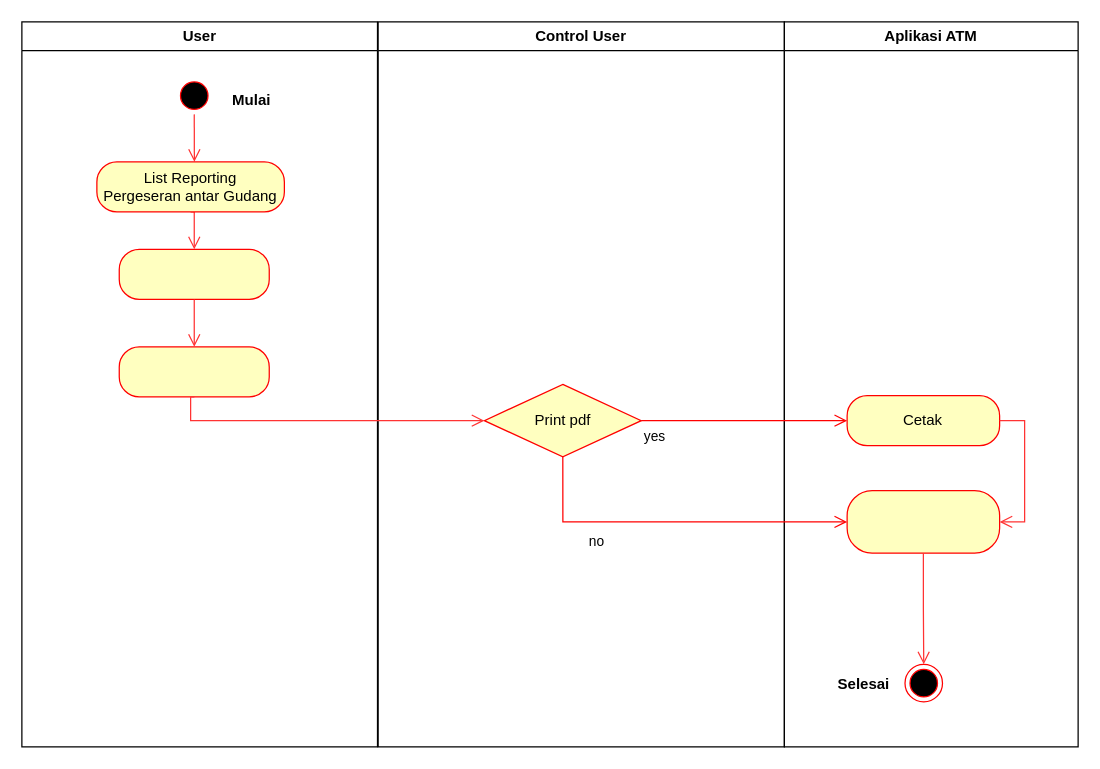
This 1100x769 diagram has some shape labels left out. The shapes that lost their labels are listed below. From the top down, each one's centre as x and y in pixels, then its label:
(x=193, y=273): Pilih Tahun
(x=193, y=371): Cetak Laporan
(x=923, y=521): Menu Reporting Pergeseran antar Gudang
